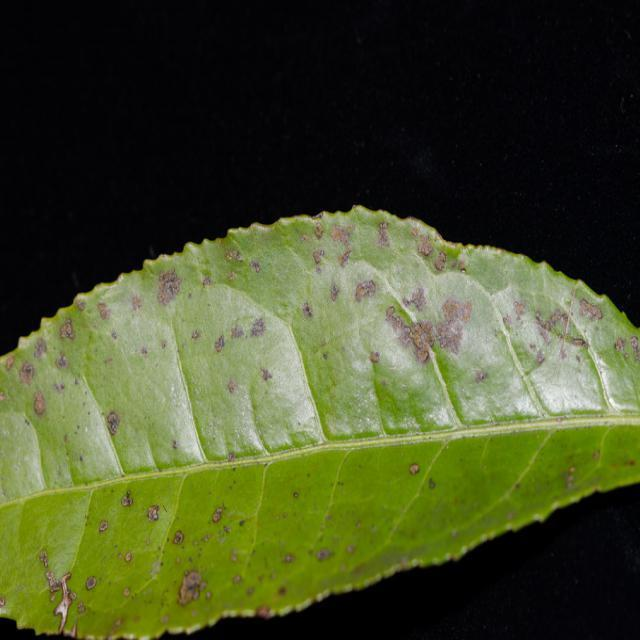Tea red rust: (27, 199, 615, 606)
